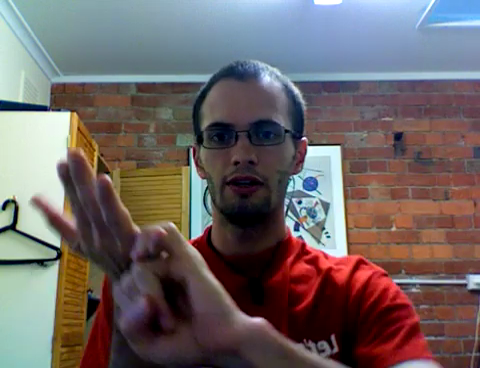S: (24, 141, 246, 368)
